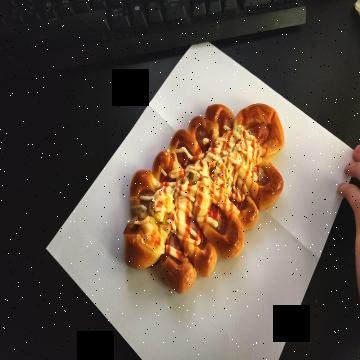pizza_bread: (125, 104, 284, 294)
